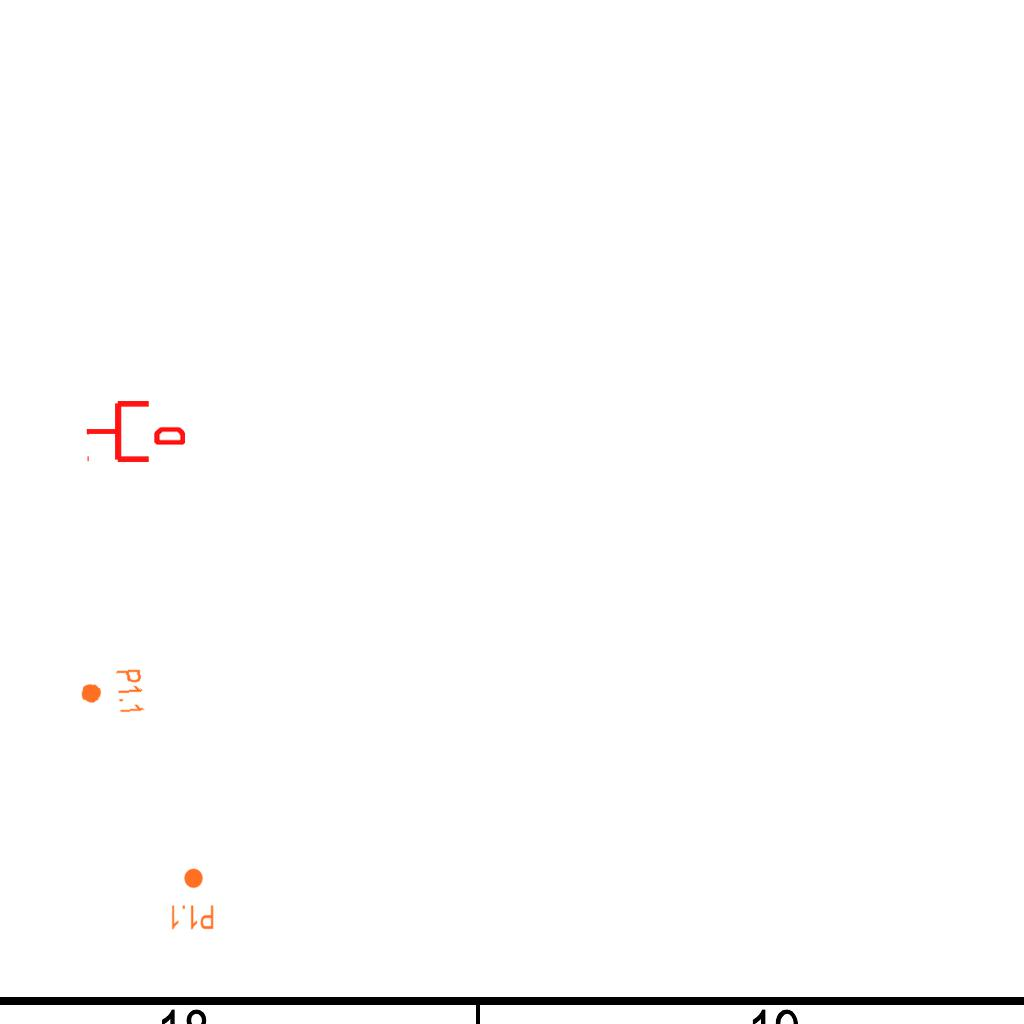Datenanschluss_einfach: (85, 397, 185, 466)
Downlight_LED_Einbauleuchten_Flur: (78, 667, 146, 719), (169, 867, 215, 931)
